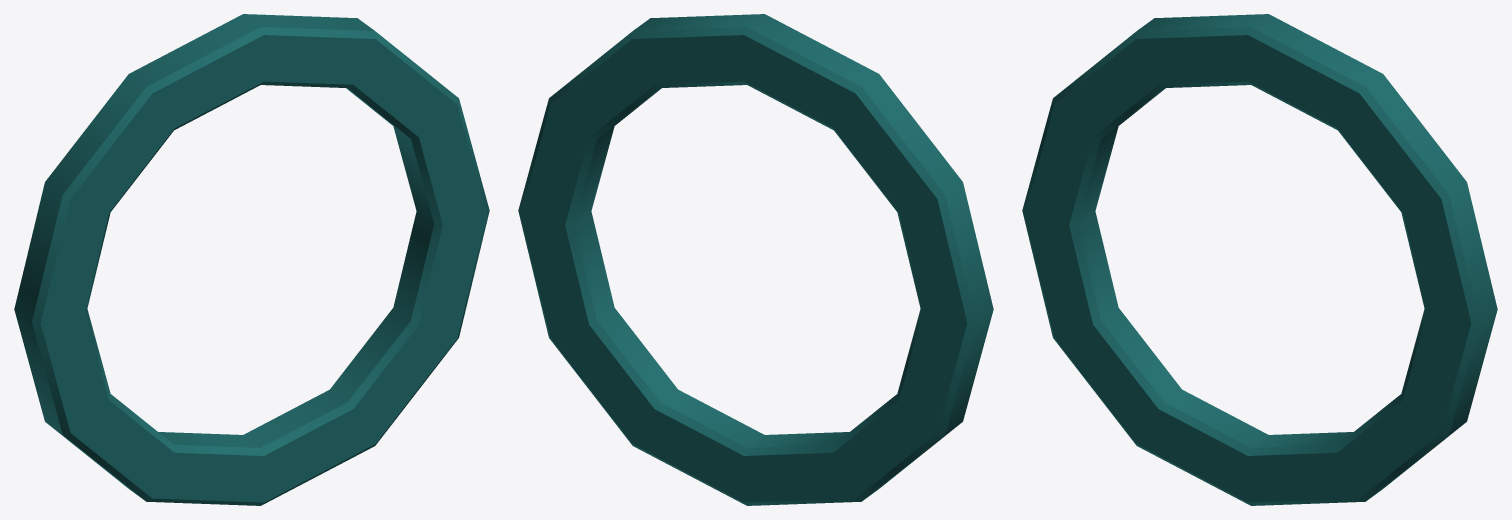
Rendered from k5_lashing_ring.obj.
The picture shows the model from 3 angles, left to right: view 1: azimuth 30°, elevation 25°; view 2: azimuth 150°, elevation 25°; view 3: azimuth 330°, elevation 25°; orthographic projection.
Parts seen in each view (by area): view 1: k5_lashing_ring; view 2: k5_lashing_ring; view 3: k5_lashing_ring.
Boxes of the visible parts, x1,y1,x2,y2 form: k5_lashing_ring: (14, 14, 489, 505); k5_lashing_ring: (518, 14, 993, 505); k5_lashing_ring: (1022, 14, 1497, 505).
Size of the model in its own units: 1.66 by 1.66 by 0.1512.
